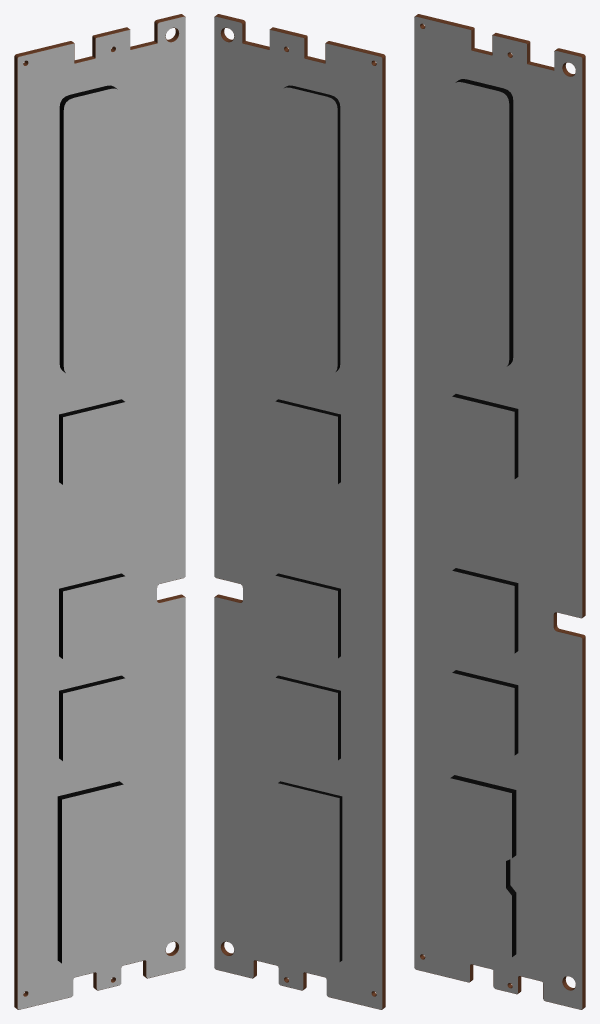
Rendered from RAM.obj.
3 views of the same model, side by side, from view 1: azimuth 30°, elevation 25°; view 2: azimuth 150°, elevation 25°; view 3: azimuth 330°, elevation 25° (orthographic).
Visible parts, largest first — view 1: object 13, Rectangle007, Rectangle008, Obj3d66_723529_1141_355, Rectangle006, Rectangle004, Rectangle005, object 3, object 11, object 5, object 9, object 7; view 2: object 12, Rectangle007, Rectangle008, Obj3d66_723529_1141_355, Rectangle005, Rectangle004, Rectangle006, object 3, object 11, object 5, object 9, object 7; view 3: object 13, Rectangle007, Rectangle008, Obj3d66_723529_1141_355, Rectangle005, Rectangle004, Rectangle006, object 3, object 11, object 7, object 5, object 9.
Boxes of the visible parts, x1,y1,x2,y2 form: object 13: (17, 16, 185, 1009); Rectangle007: (63, 88, 120, 374); Rectangle008: (62, 784, 123, 963); Obj3d66_723529_1141_355: (14, 14, 185, 1009); Rectangle006: (63, 678, 125, 760); Rectangle004: (63, 402, 125, 484); Rectangle005: (63, 576, 125, 658); object 3: (59, 85, 117, 372); object 11: (57, 781, 123, 963); object 5: (59, 399, 124, 484); object 9: (59, 675, 124, 760); object 7: (59, 573, 124, 658); object 12: (214, 16, 382, 1009); Rectangle007: (280, 87, 337, 373); Rectangle008: (278, 783, 339, 962); Obj3d66_723529_1141_355: (214, 14, 385, 1009); Rectangle005: (275, 575, 337, 658); Rectangle004: (275, 401, 337, 484); Rectangle006: (275, 677, 337, 760); object 3: (284, 85, 340, 371); object 11: (278, 781, 342, 961); object 5: (275, 399, 340, 483); object 9: (276, 675, 340, 760); object 7: (275, 573, 340, 658); object 13: (414, 16, 582, 1009); Rectangle007: (452, 82, 509, 367); Rectangle008: (450, 778, 511, 957); Obj3d66_723529_1141_355: (414, 14, 585, 1009); Rectangle005: (452, 570, 514, 653); Rectangle004: (452, 396, 514, 479); Rectangle006: (452, 673, 514, 755); object 3: (455, 79, 513, 366); object 11: (450, 775, 516, 956); object 7: (452, 568, 518, 653); object 5: (452, 394, 518, 478); object 9: (452, 670, 518, 755).
Size of the model in its own units: 3 by 16.17 by 0.3226.
